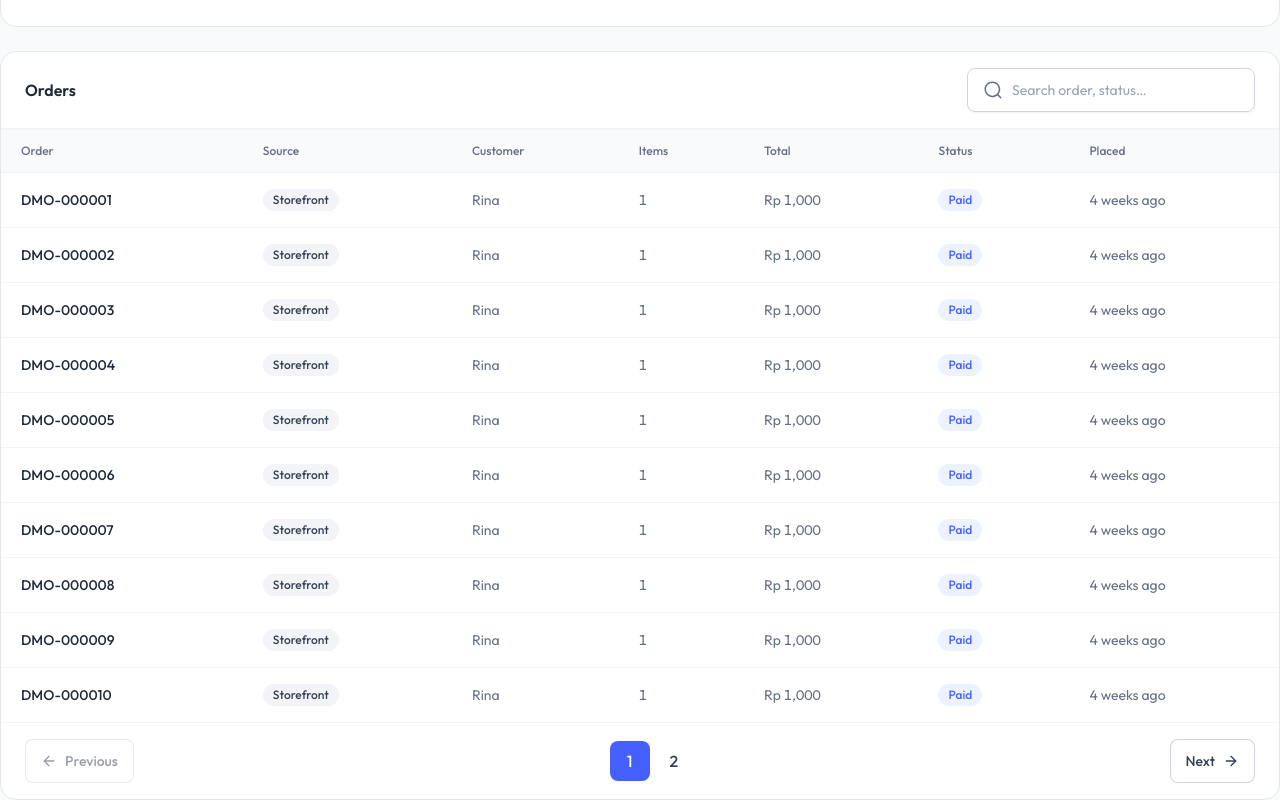
Test: the customer's orders (P1-111) › pages ten at a time and searches by order number
(page scrolled)
Expected: the link "DMO-000010" is shown, 21,686 -> 112,704
Expected: the text "DMO-000011" is not shown
Click the button "Next" at (1212, 761), box 1170,739 -> 1255,783
(page scrolled)
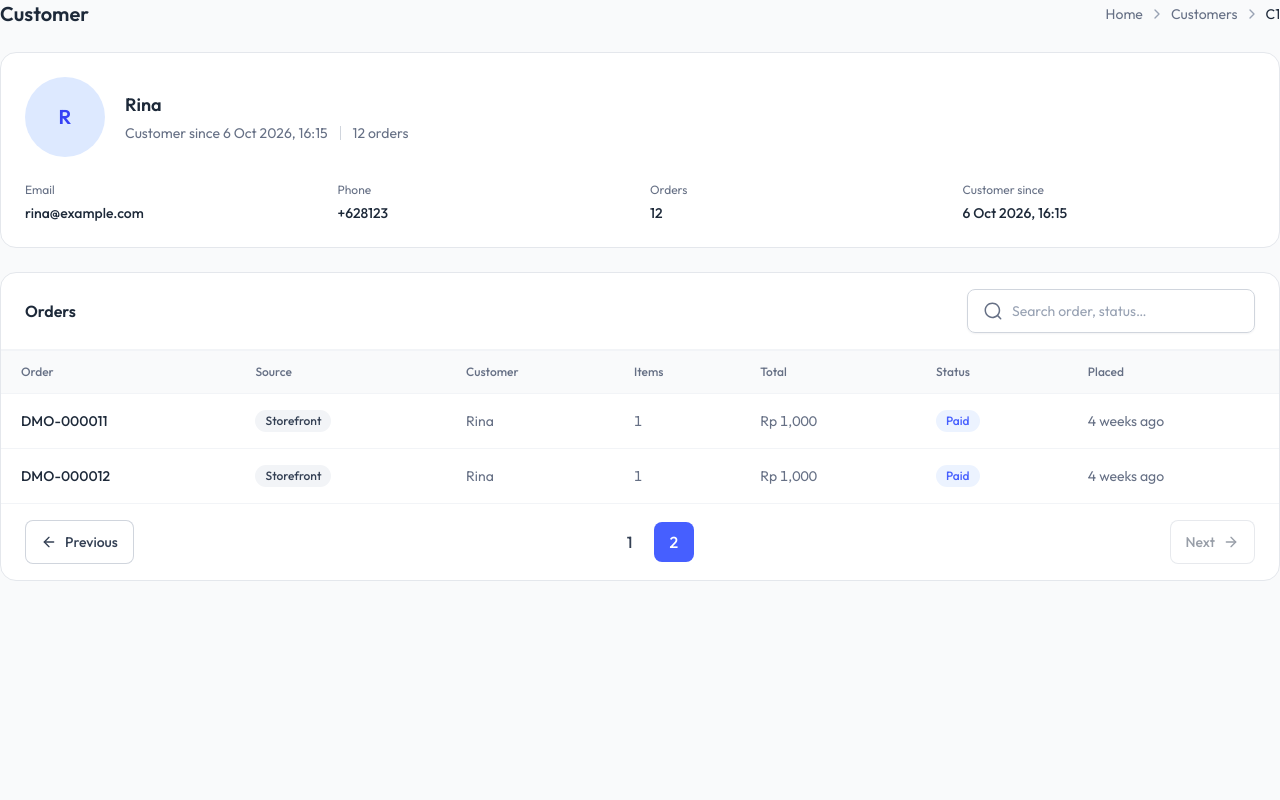
Expected: the link "DMO-000012" is shown, 21,467 -> 110,485
Expected: the link "DMO-000001" is gone
Type "000003" into the search field named "Search orders" at (1111, 311), box 967,289 -> 1255,333
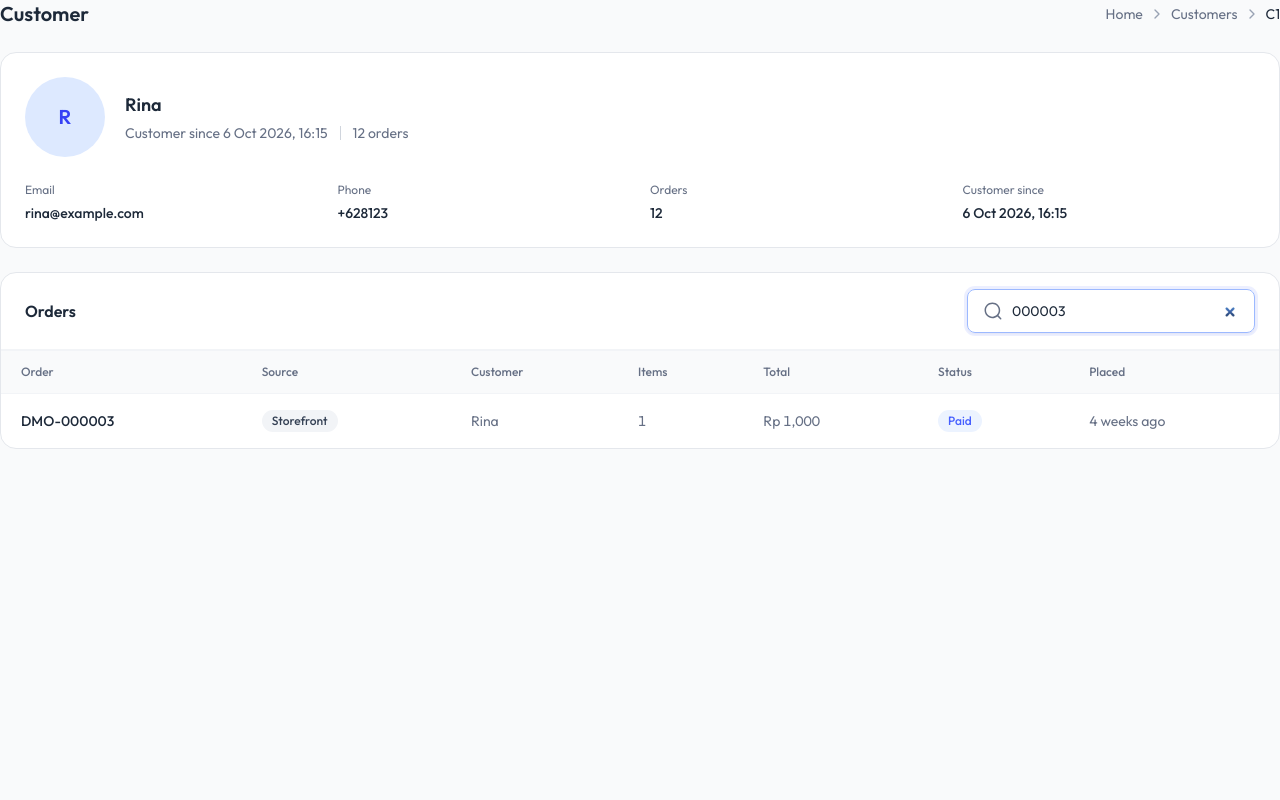
Expected: the link "DMO-000003" is shown, 21,412 -> 114,430
Expected: the link "DMO-000012" is gone
